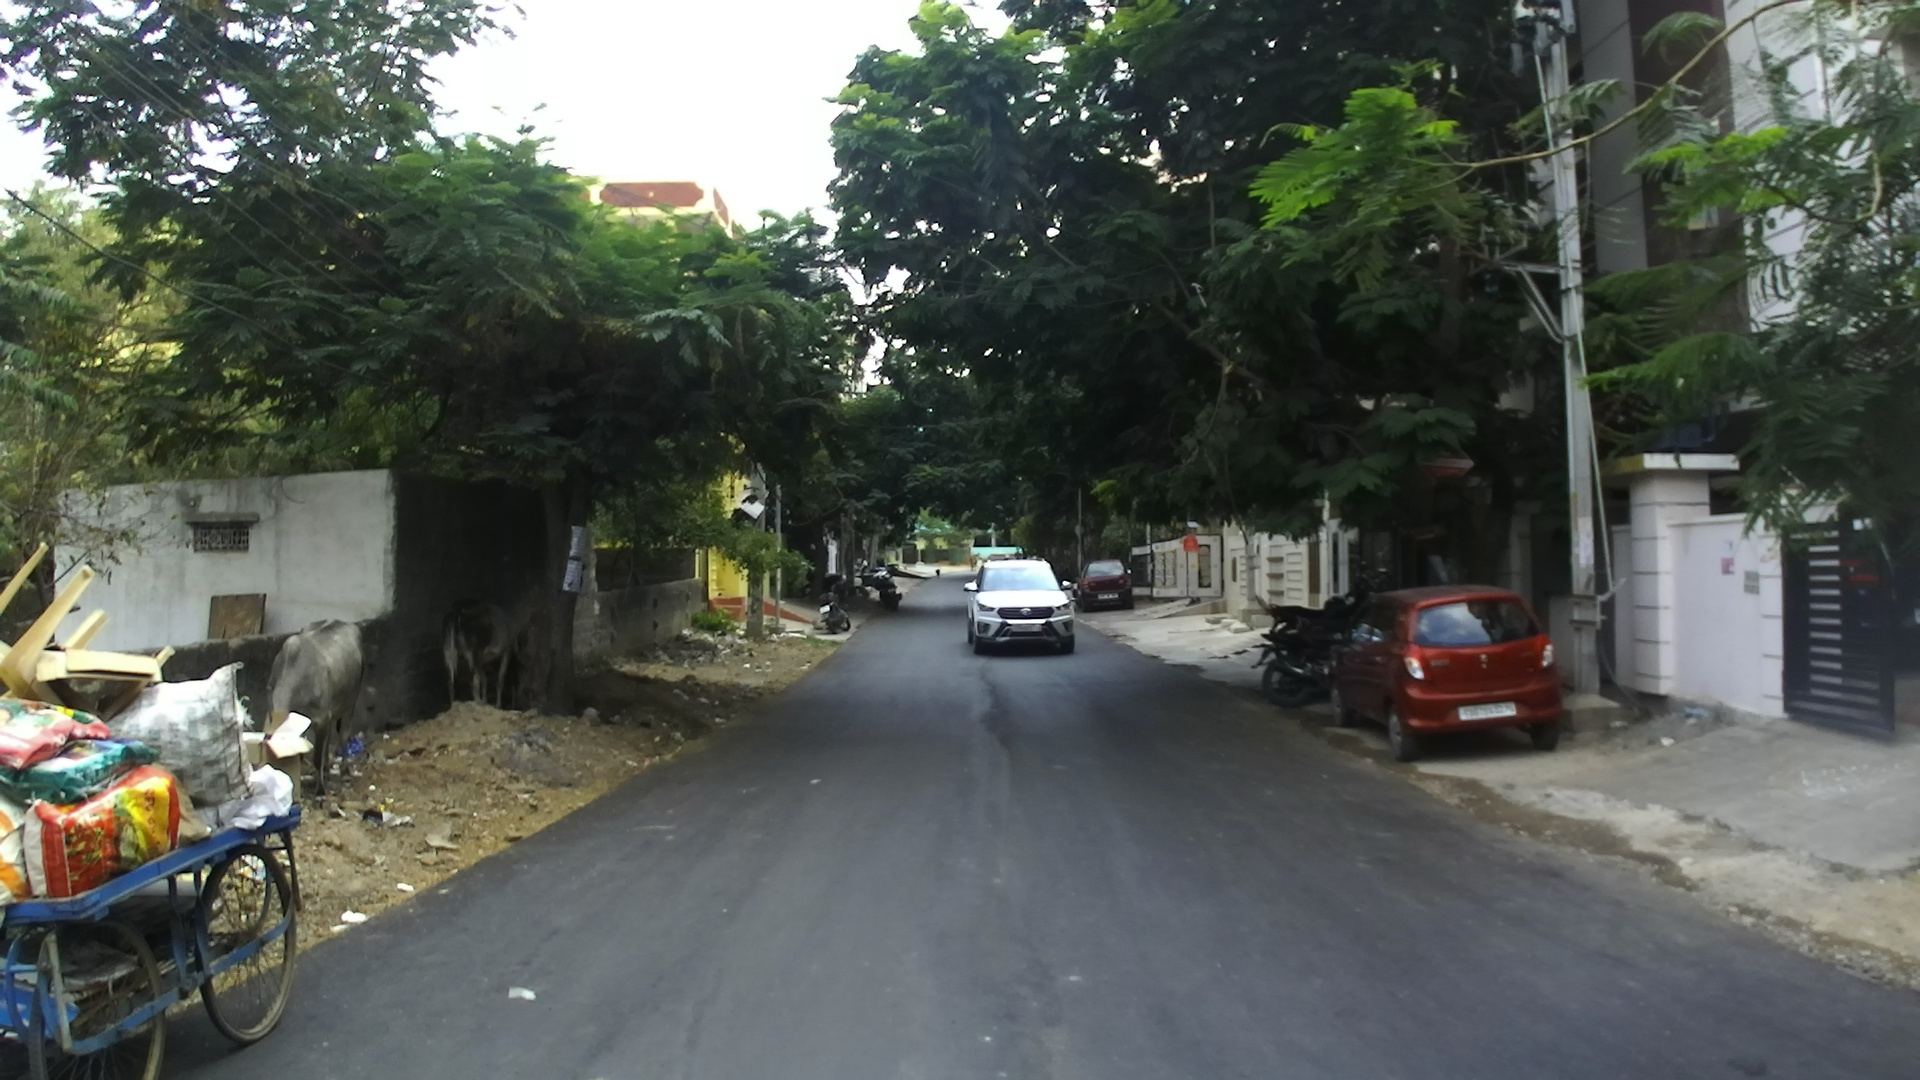vehicle: (1328, 584, 1568, 760), (964, 559, 1077, 655), (1077, 560, 1133, 609), (862, 564, 901, 609)
